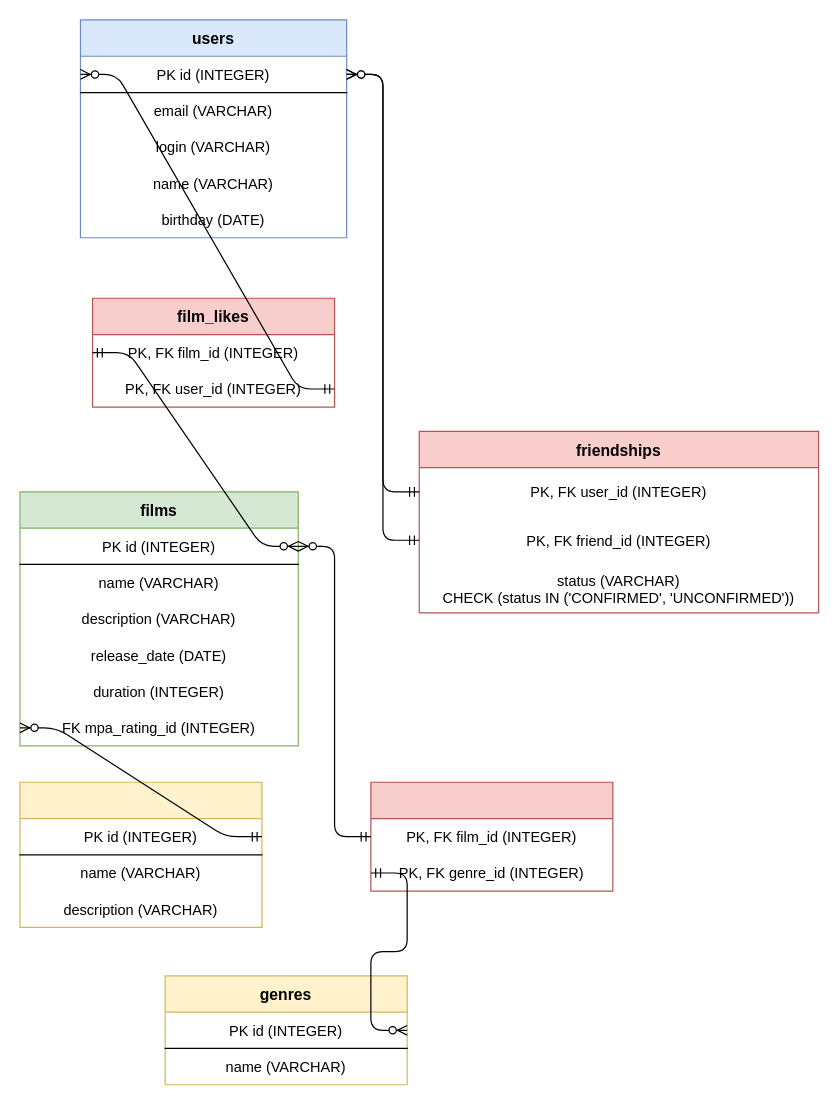
The diagram is 839 pixels wide and 1105 high, and some of its shapes have lost their labels. The shapes that lost their labels are listed below. From the top down, each one's box as (x1, y1, x2, y2) in pixels, then its label:
(19, 781, 262, 927): mpa_ratings
(370, 781, 613, 891): film_genres
